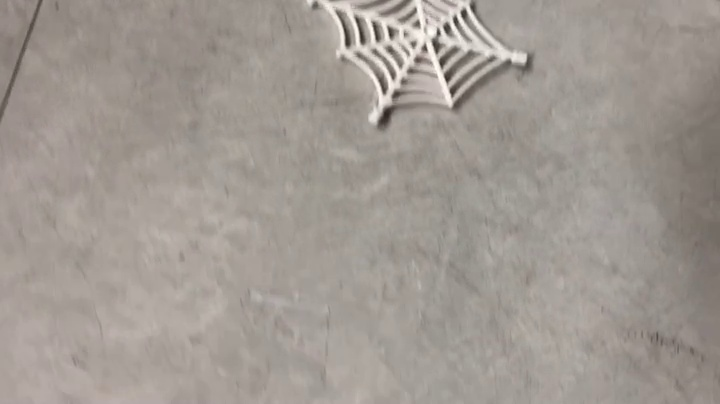web: (305, 1, 534, 128)
